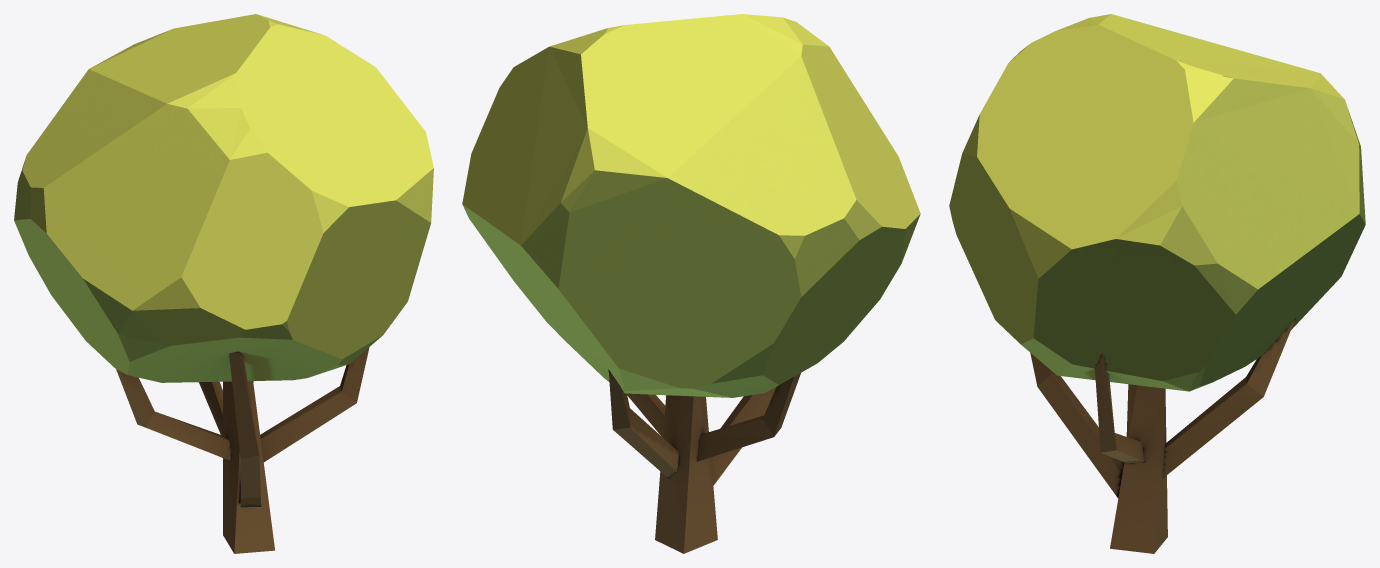
The model's file is 5e1c2a26-873a-4181-acd2-484c543149bc.glb.
The picture shows the model from 3 angles, left to right: view 1: azimuth 30°, elevation 25°; view 2: azimuth 150°, elevation 25°; view 3: azimuth 270°, elevation 25°; orthographic projection. The views are drawn at different scales.
Parts seen in each view (by area): view 1: bush; view 2: bush; view 3: bush.
Part boxes in pixels (x1=…): bush: x1=14, y1=14, x2=433, y2=553; bush: x1=462, y1=14, x2=920, y2=553; bush: x1=949, y1=14, x2=1365, y2=553.
Size of the model in its own units: 1.35 by 1.74 by 1.3.
1 material, 1 textured.
